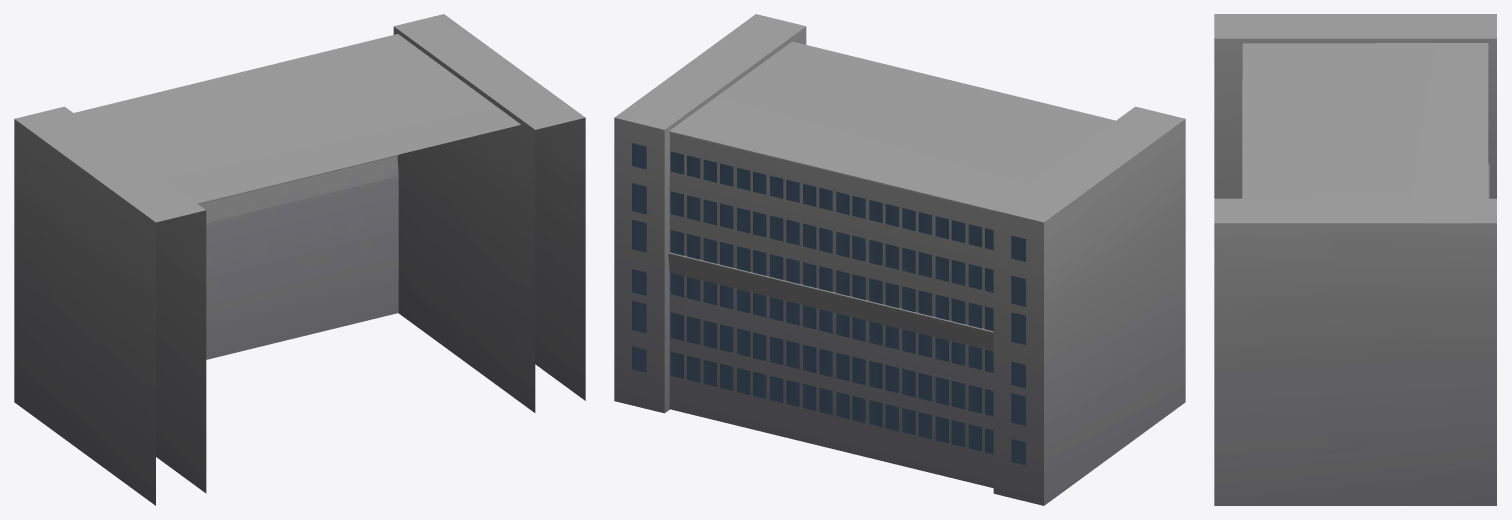
Rendered from Building 2.fbx.
The picture shows the model from 3 angles, left to right: view 1: azimuth 30°, elevation 25°; view 2: azimuth 150°, elevation 25°; view 3: azimuth 270°, elevation 25°; orthographic projection.
Parts seen in each view (by area): view 1: Building_2; view 2: Building_2; view 3: Building_2.
Part boxes in pixels (x1,y1,x2,y2): Building_2: (14, 14, 585, 505); Building_2: (614, 14, 1185, 505); Building_2: (1214, 14, 1496, 505).
Size of the model in its own units: 1502 by 947 by 859.
